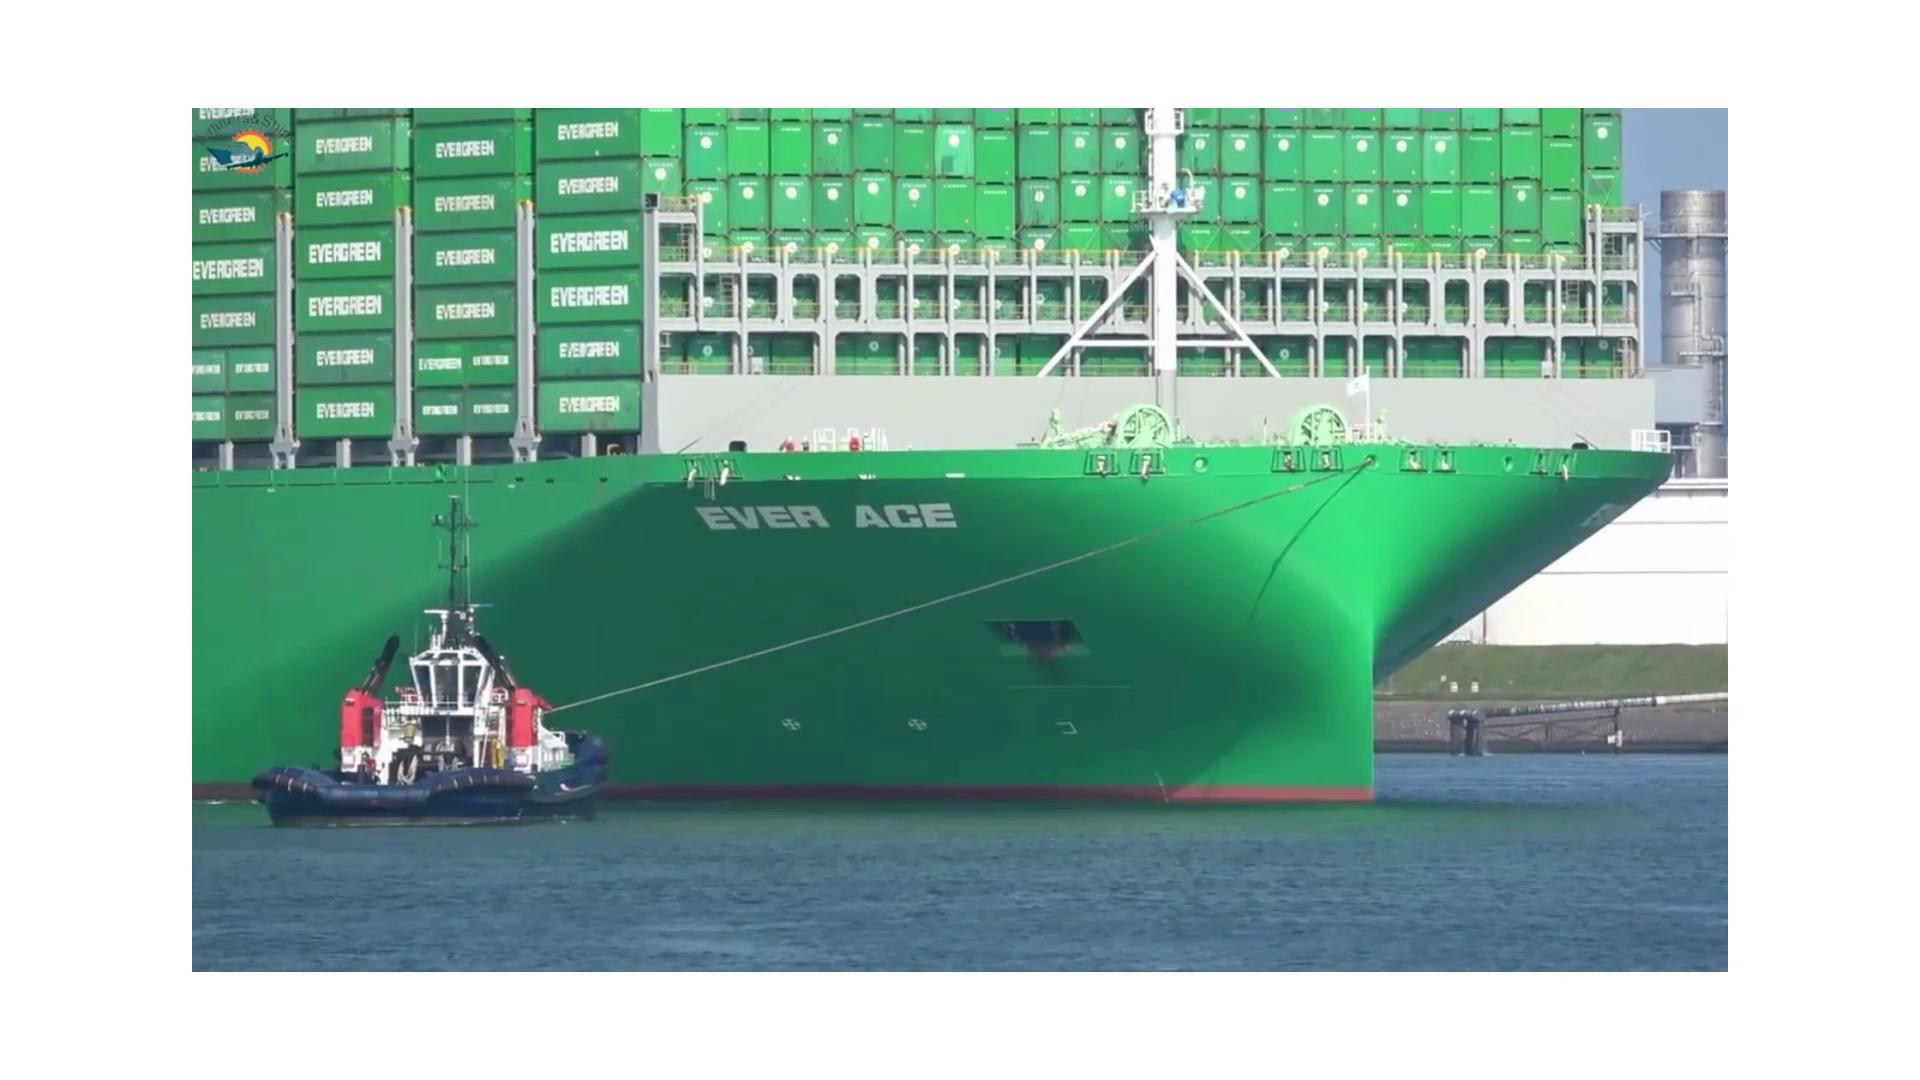OCR: (687, 480, 967, 546)
